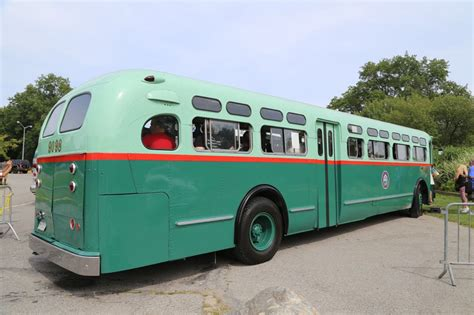bus: (38, 82, 432, 278)
